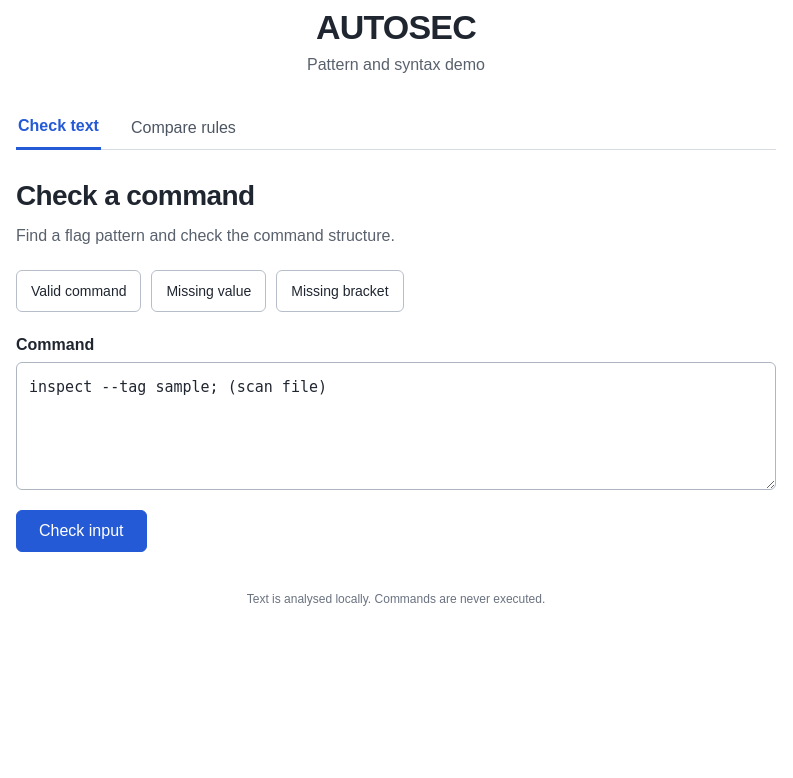
Test: Small demo flows › finds --a and shows the real acceptance disagreement and trace
Click the button "Compare rules". click: x=183, y=128
box: [129,105,238,150]
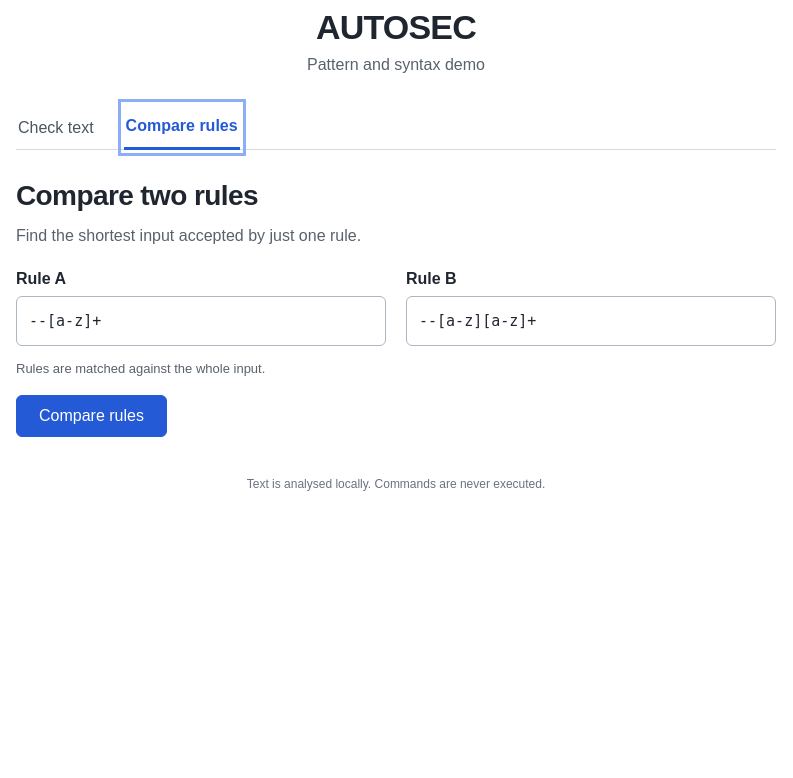
Click the button "Compare rules" below "Rule A". click: x=91, y=416
box: [16,394,167,436]
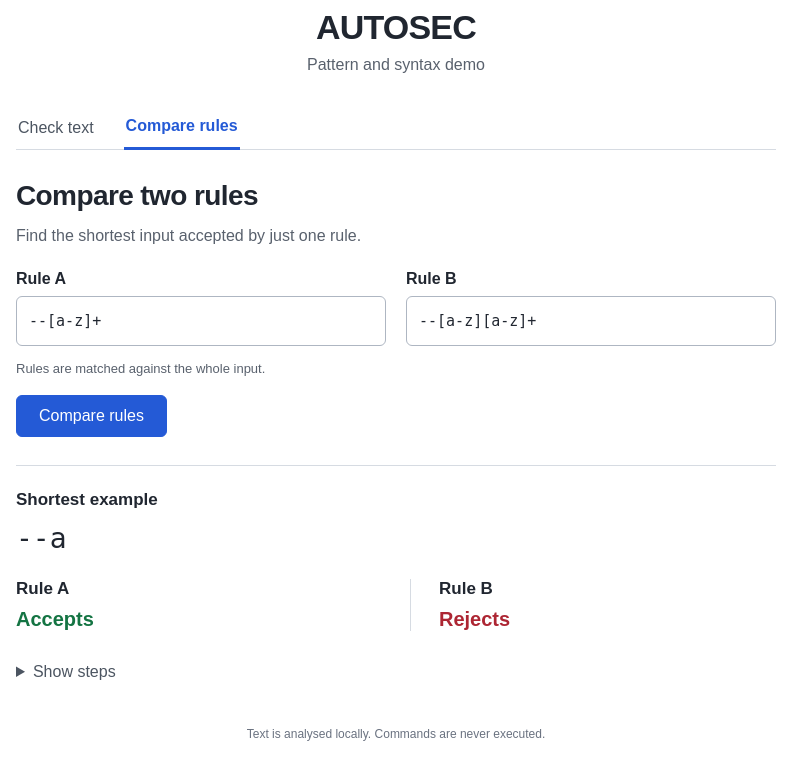
Expected: the heading "Shortest example" is shown, [16,490,158,508]
Expected: the element with class "witness" reads "--a", [16,522,67,554]
Expected: the text "Accepts" is shown, [16,608,94,630]
Click the heading "Show steps". click: x=74, y=671
box: [33,662,116,680]
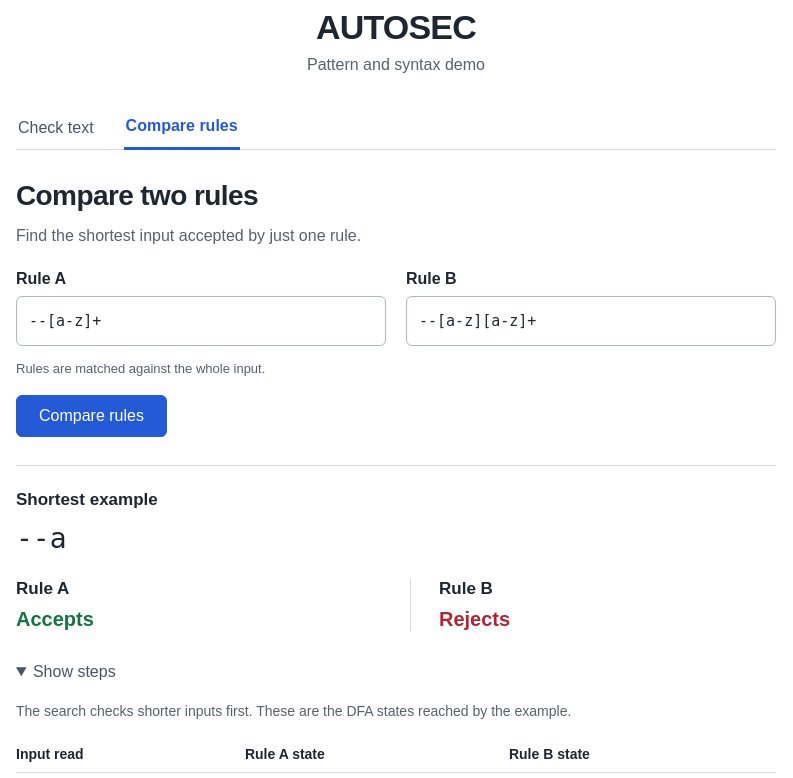
Expected: the number of rows is 5
